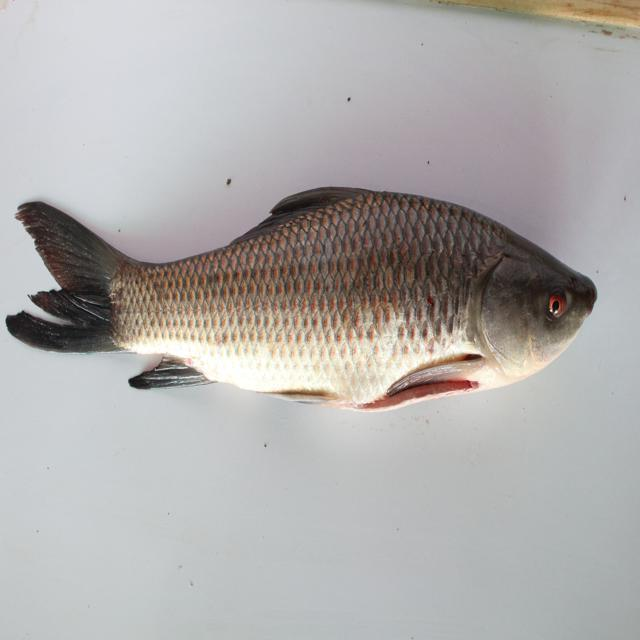Rohu: (6, 176, 620, 414)
